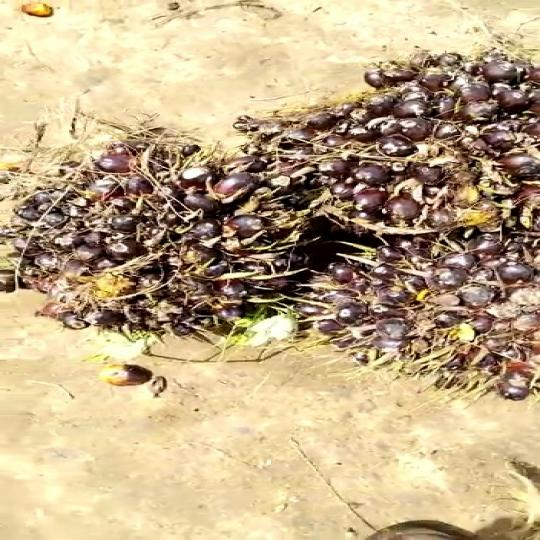mentah: (0, 131, 324, 340), (250, 49, 540, 244), (279, 234, 540, 409)
